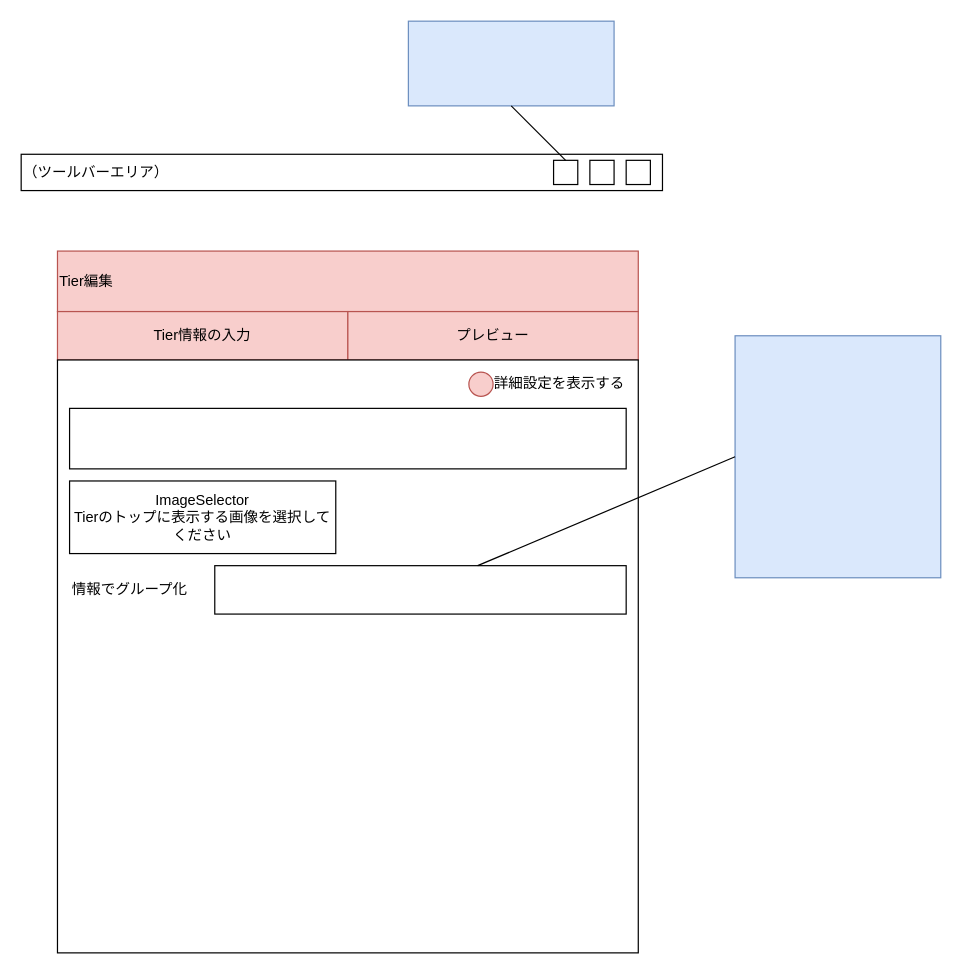
Some shapes in this 962 by 974 pixel diagram are drawn without their labels. The centre of each missing label's shape, as x and y in pixels:
"新規追加 v-btn ページのトップに戻るボタン" belongs at [510,63].
"新規追加 v-select ReviewFactorParamsのうち、一つまたは「指定なし」を選択できる 【例】 ・指定なし ・旬の季節 ・発祥の国" belongs at [837,456].
